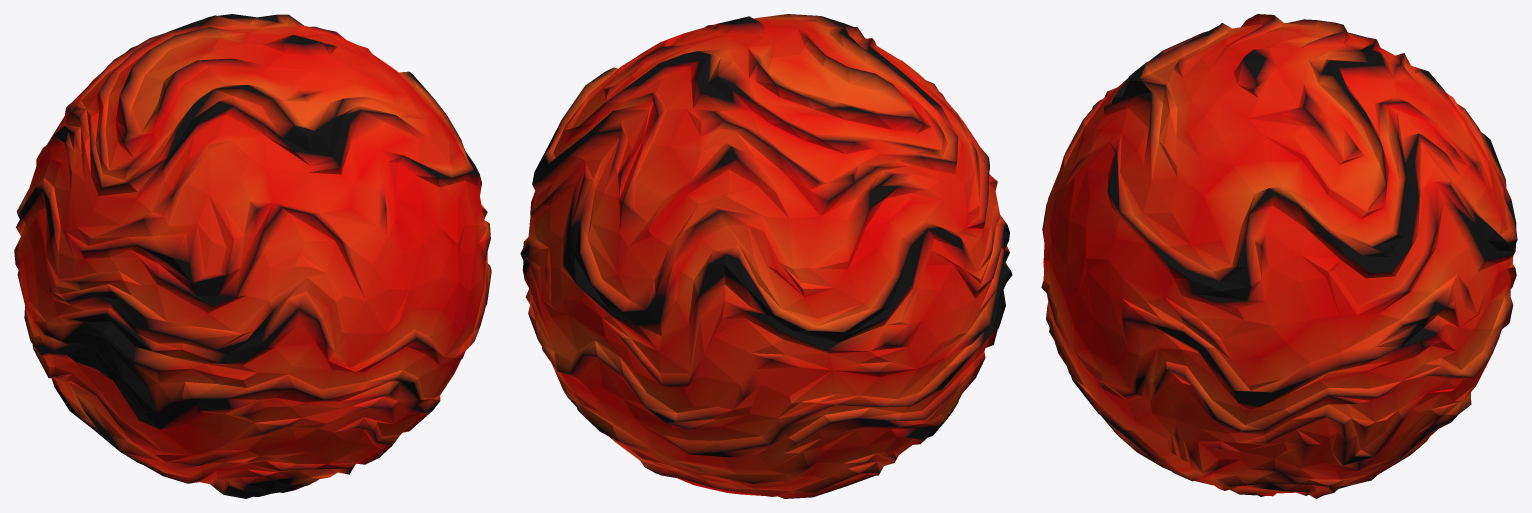
Rendered from volcanic_planet_11.fbx.
3 renders of one model, left to right at view 1: azimuth 30°, elevation 25°; view 2: azimuth 150°, elevation 25°; view 3: azimuth 270°, elevation 25°, orthographic. The views are drawn at different scales.
Parts seen in each view (by area): view 1: filecache2; view 2: filecache2; view 3: filecache2.
Part boxes in pixels (<box>): filecache2: <box>14,14,491,498</box>; filecache2: <box>520,14,1012,498</box>; filecache2: <box>1041,14,1517,498</box>.
Bounding box in the file's own units: 2.03 × 2.06 × 2.03.
